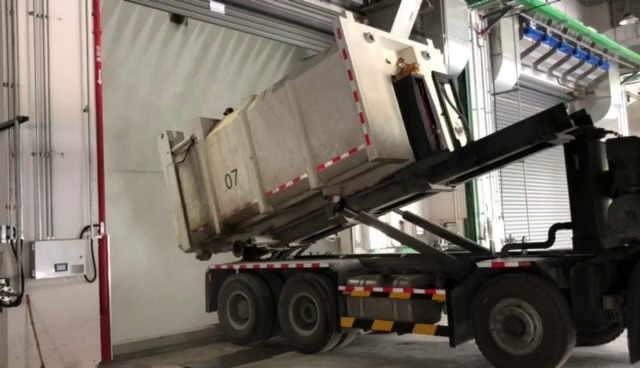truck: (153, 16, 640, 368)
